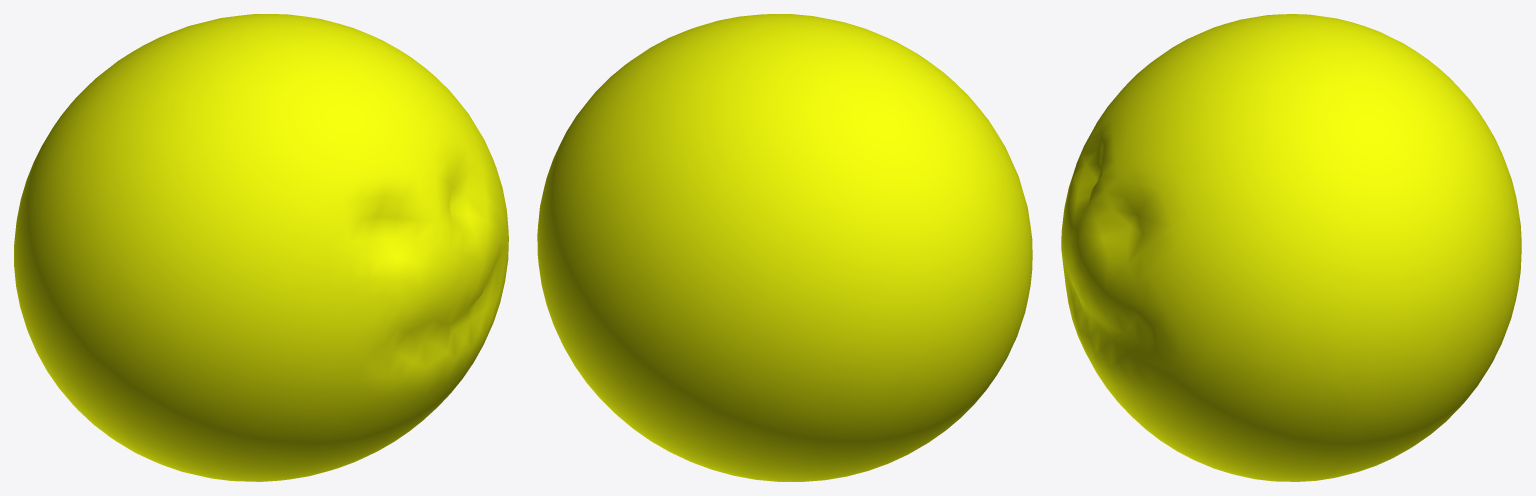
Rendered from smiley.glb.
The picture shows the model from 3 angles, left to right: view 1: azimuth 30°, elevation 25°; view 2: azimuth 150°, elevation 25°; view 3: azimuth 270°, elevation 25°; orthographic projection.
Visible parts, largest first — view 1: Quad Sphere; view 2: Quad Sphere; view 3: Quad Sphere.
Boxes of the visible parts, bbox=[...] form: Quad Sphere: bbox=[14, 14, 508, 481]; Quad Sphere: bbox=[537, 14, 1032, 481]; Quad Sphere: bbox=[1061, 14, 1521, 481].
Bounding box in the file's own units: 0.3128 × 0.2892 × 0.2889.
1 material, 1 textured.
